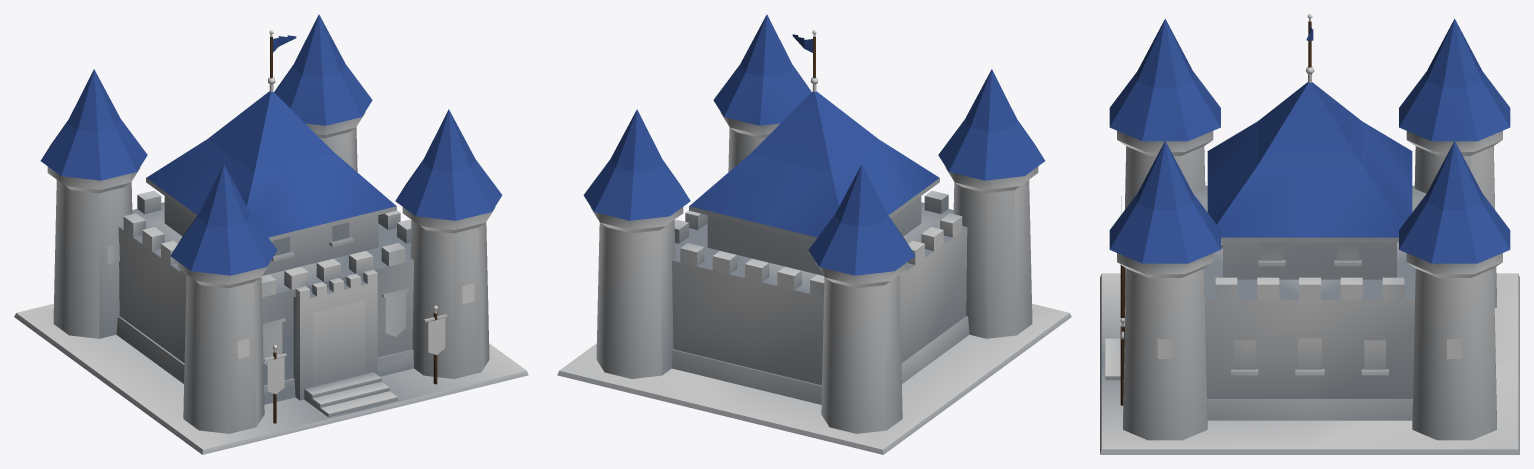
The model's file is city_hall_t3.glb.
3 renders of one model, left to right at view 1: azimuth 30°, elevation 25°; view 2: azimuth 150°, elevation 25°; view 3: azimuth 270°, elevation 25°, orthographic. The views are drawn at different scales.
Visible parts, largest first — view 1: city_hall_t3; view 2: city_hall_t3; view 3: city_hall_t3.
Boxes of the visible parts, bbox=[...] form: city_hall_t3: bbox=[14, 14, 528, 454]; city_hall_t3: bbox=[557, 14, 1071, 454]; city_hall_t3: bbox=[1100, 14, 1519, 454].
Bounding box in the file's own units: 3.86 × 3.57 × 3.86.
